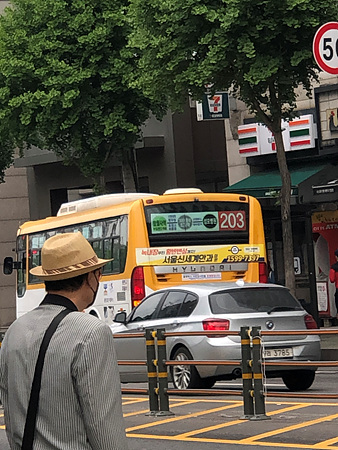bnum: (218, 212, 245, 228)
